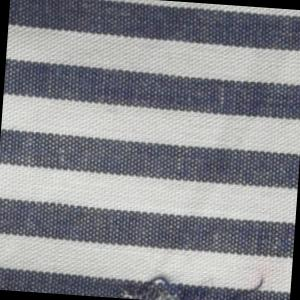Damage: (114, 272, 210, 300)
